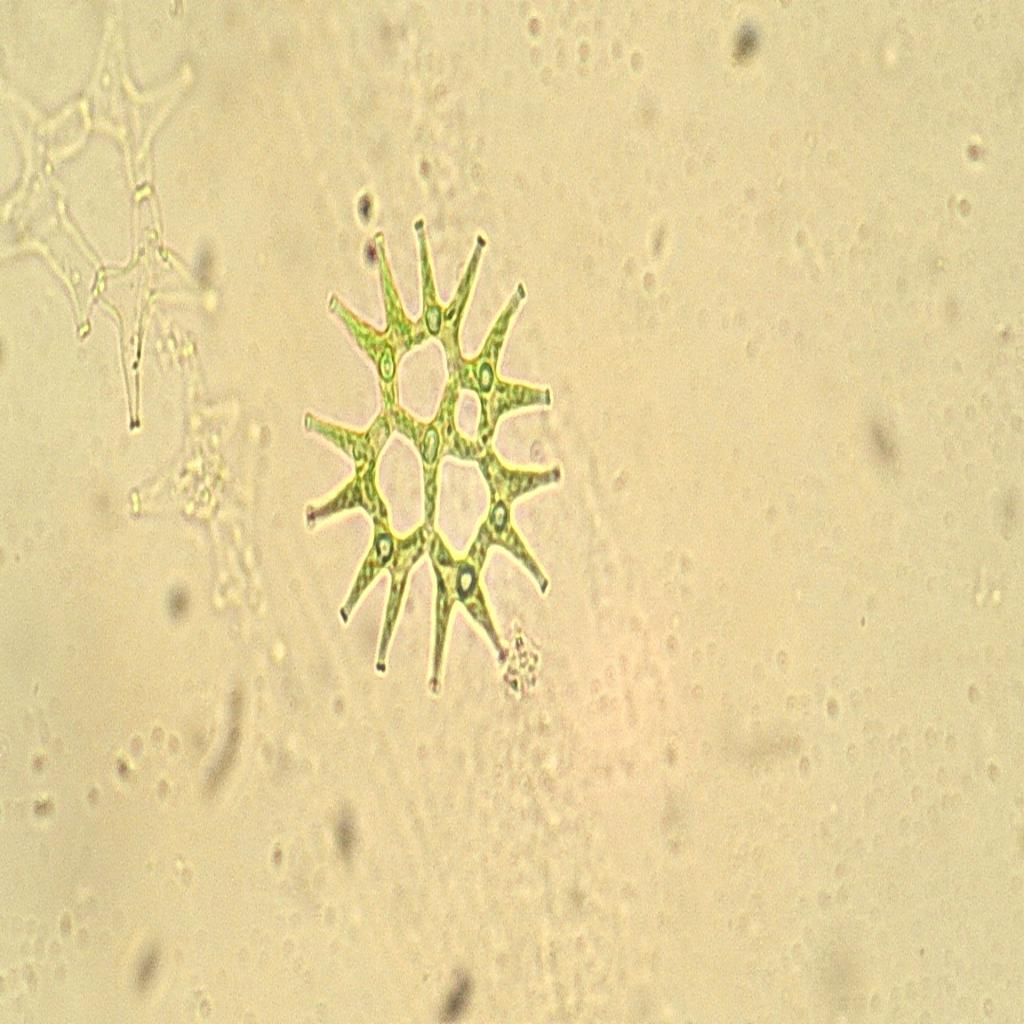Pediastrum_CTH: (288, 200, 582, 722)
